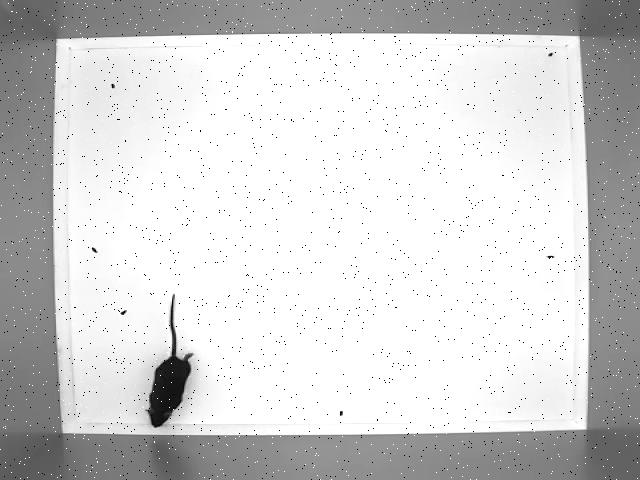Tikus: (143, 292, 197, 430)
